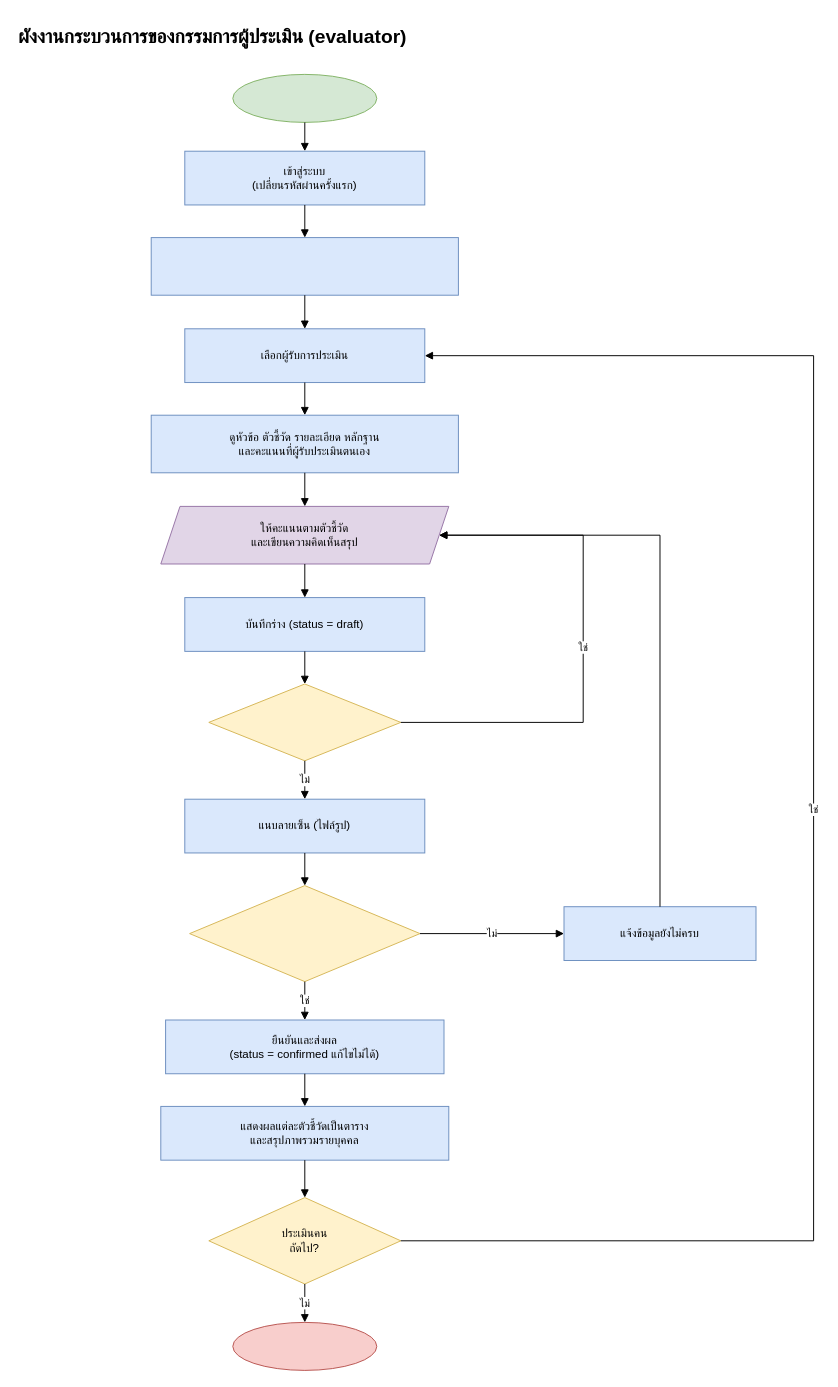
This 838x1387 diagram has some shape labels left out. The centre of each missing label's shape, as x and y in pixels:
คะแนนครบ + ความเห็น + ลายเซ็น?: point 304,933
จบ: point 304,1345
ดูรายชื่อผู้ที่ต้องประเมิน (สถานะ: ยังไม่ประเมิน / ร่าง / ยืนยันแล้ว): point 304,266
ต้องการแก้ไข?: point 304,722
เริ่มต้น: point 304,97
